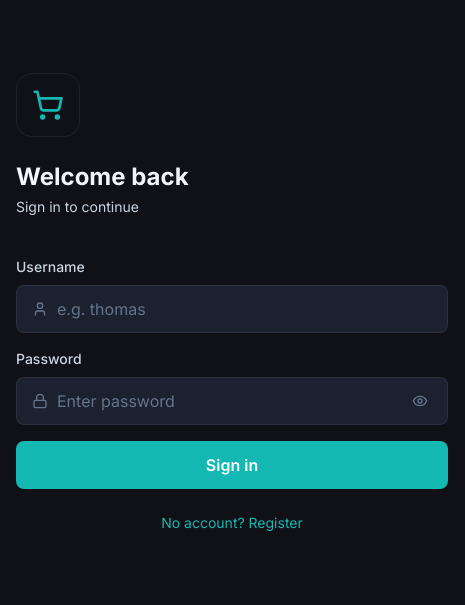
Test: LoginScreen › switches to register mode
Click the button "No account? Register".
click(232, 523)  # box x1=16 y1=513 x2=448 y2=533
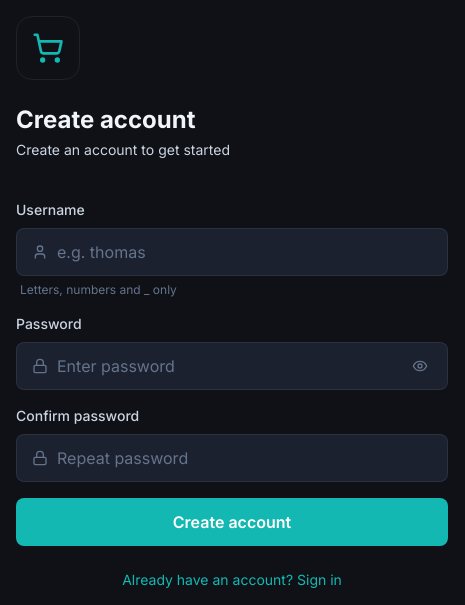
Expected: the button "Create account" is shown, x1=16 y1=498 x2=448 y2=546
